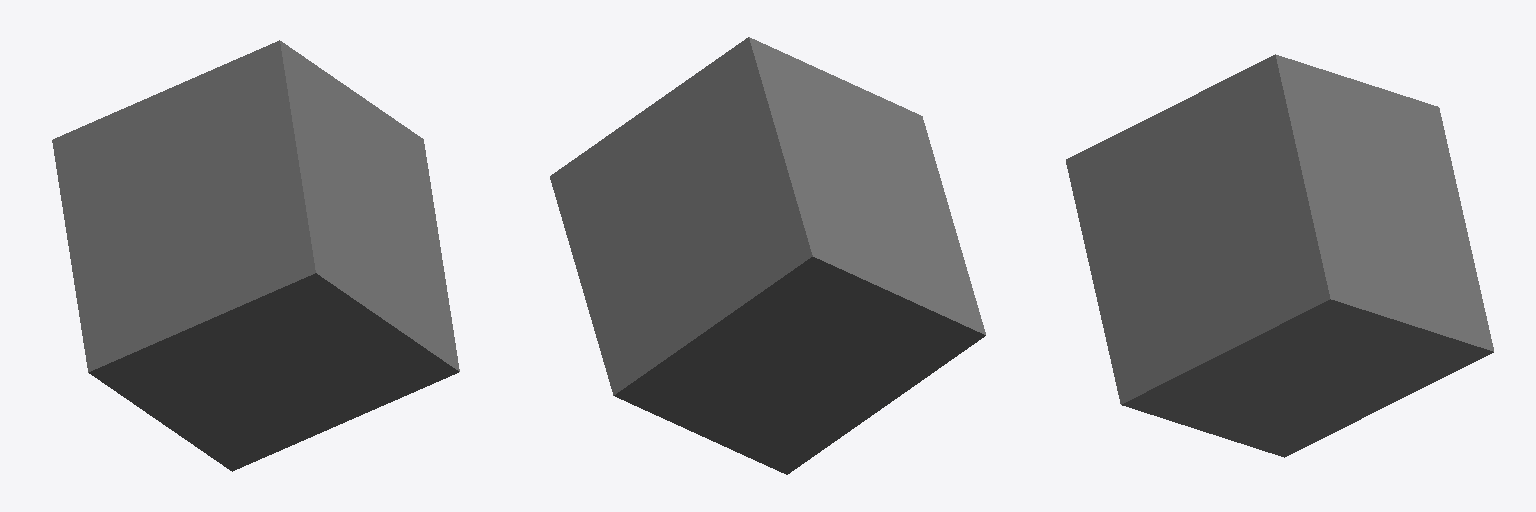
File: bone2.obj
3 renders of one model, left to right at view 1: azimuth 30°, elevation 25°; view 2: azimuth 150°, elevation 25°; view 3: azimuth 270°, elevation 25°, orthographic.
Parts seen in each view (by area): view 1: pCube1; view 2: pCube1; view 3: pCube1.
Part boxes in pixels (x1,y1,x2,y2): pCube1: (52, 40, 459, 471); pCube1: (550, 37, 985, 474); pCube1: (1066, 54, 1493, 457).
Bounding box in the file's own units: 2612 × 2743 × 2513.